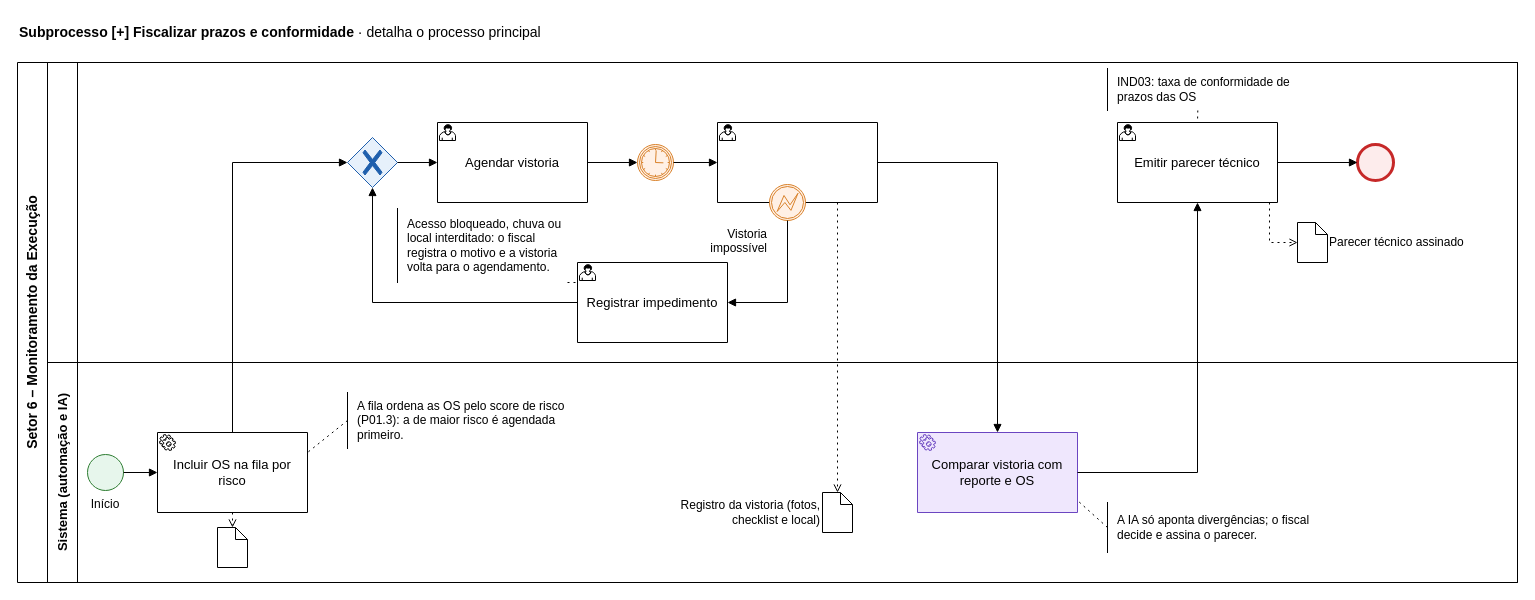
The diagram is 1535 pixels wide and 600 high, and some of its shapes have lost their labels. The box of each missing label's shape, as (x1, y1, x2, y2) in pixels:
Data agendada chegou: (636, 144, 674, 180)
Fila de vistorias priorizada: (216, 526, 248, 568)
Fiscal de campo: (46, 62, 1518, 362)
Parecer emitido: (1356, 144, 1394, 180)
Vistoriar execução com checklist: (716, 122, 878, 202)
